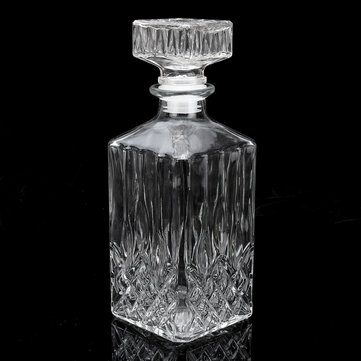glass_bottle: (107, 13, 255, 345)
